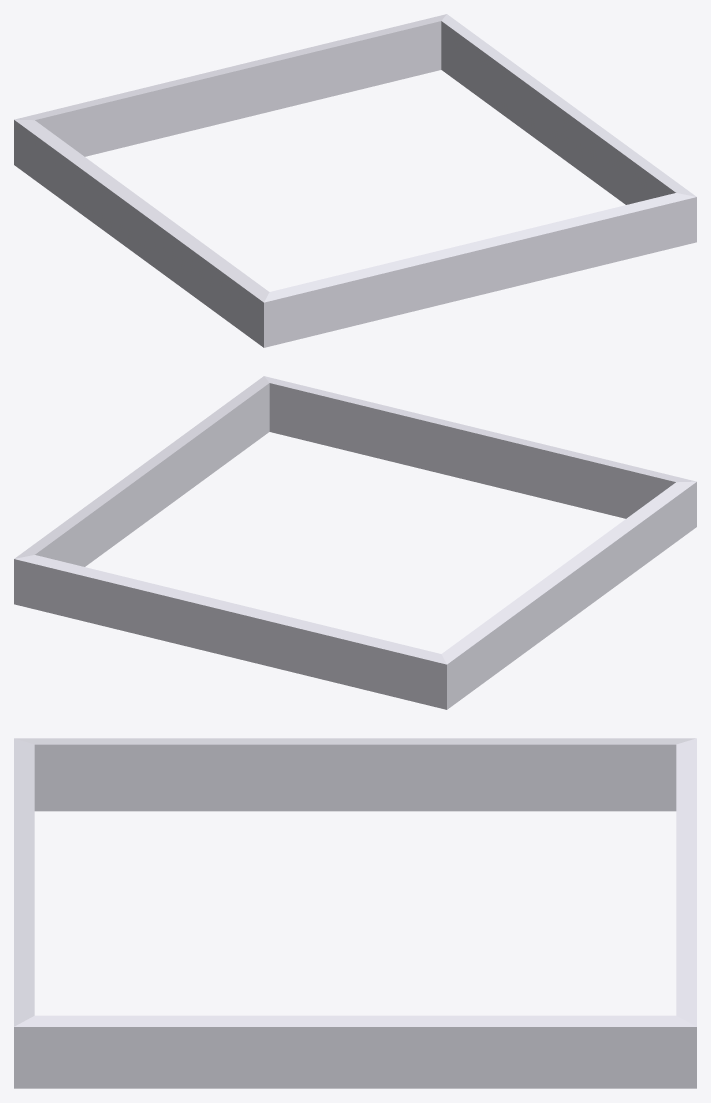
Rendered from FloorFrame.obj.
The picture shows the model from 3 angles, top to bottom: view 1: azimuth 30°, elevation 25°; view 2: azimuth 150°, elevation 25°; view 3: azimuth 270°, elevation 25°; orthographic projection. The views are drawn at different scales.
Visible parts, largest first — view 1: Cube.001; view 2: Cube.001; view 3: Cube.001.
Boxes of the visible parts, left/top/right/bottom form: Cube.001: left=14, top=14, right=696, bottom=347; Cube.001: left=14, top=376, right=696, bottom=709; Cube.001: left=14, top=738, right=696, bottom=1088.
Size of the model in its own units: 1 by 0.1079 by 1.
1 material, 1 textured.
